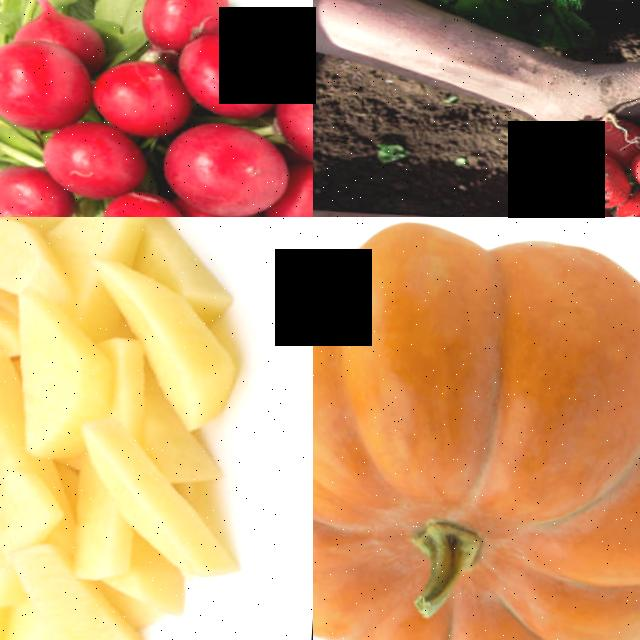potato: (81, 239, 255, 417), (76, 409, 250, 570), (7, 272, 108, 451), (8, 528, 160, 640), (0, 217, 73, 290)
pumpkin: (313, 217, 640, 640)
radishes: (0, 0, 313, 217)
